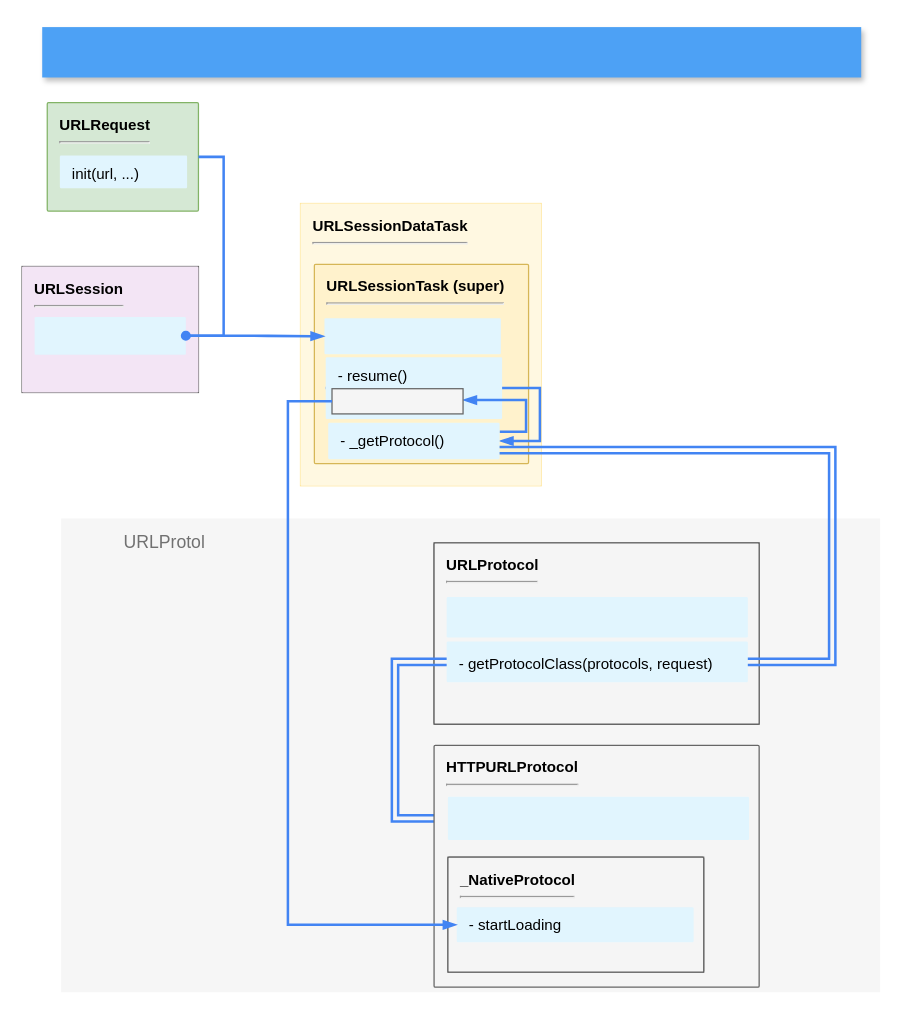
The diagram is 902 pixels wide and 1027 high, and some of its shapes have lost their labels. The shapes that lost their labels are listed below. From the top down, each one's centre as x and y in pixels, then its label:
At (x=452, y=53): "Architecture: iOS HTTP Request".
At (x=109, y=335): "- dataTask(request)".
At (x=412, y=336): "init(session,request,id)".
At (x=397, y=400): "protocol".
At (x=596, y=616): "_registeredProtocolClassess=[AnyClass]()".
At (x=597, y=817): "- canInit".
